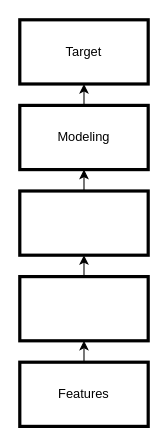
Image size: 168x446. Some labels were removed from this diagram. The shapes that lost their labels are listed below. From the top down, each one's centre as x and y in pixels, then its label:
At (x=83, y=222): "Feature Embedding".
At (x=83, y=308): "Feature Column".
